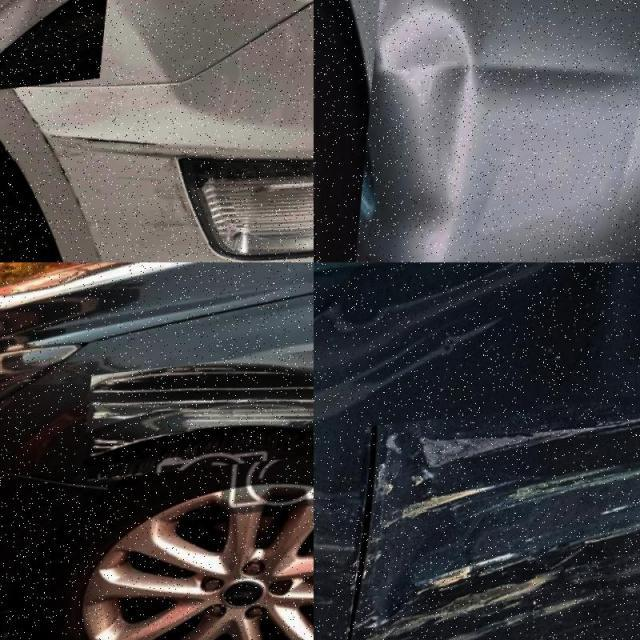car damage: (375, 3, 525, 261)
